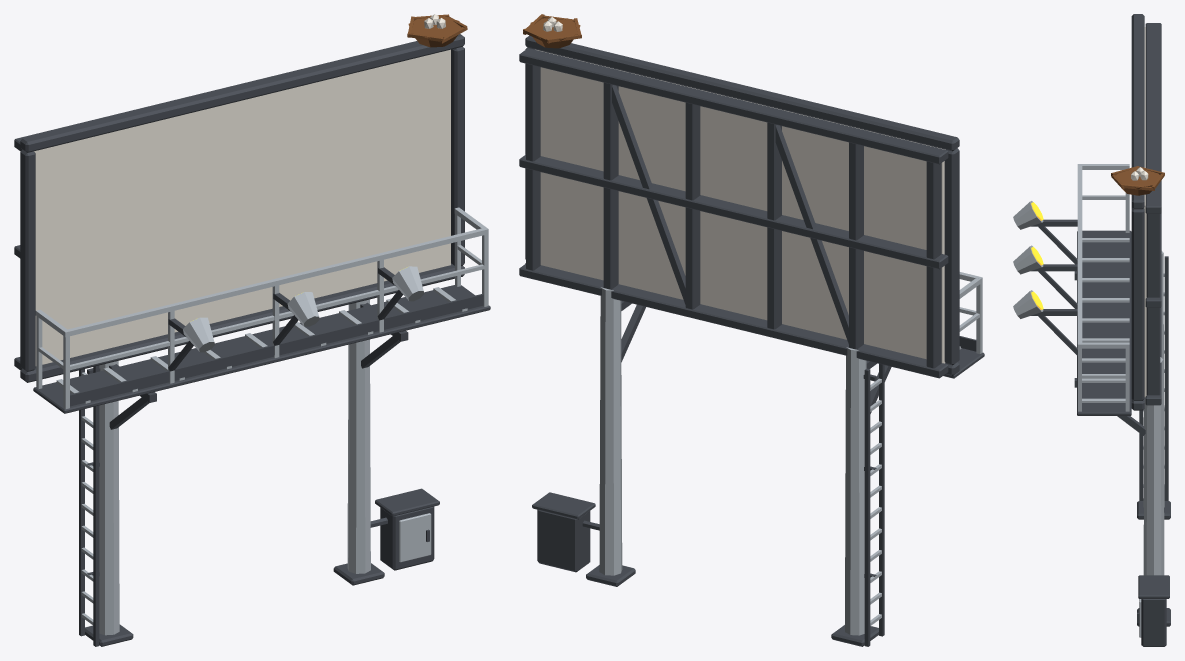
File: roadside-billboard.glb
3 renders of one model, left to right at view 1: azimuth 30°, elevation 25°; view 2: azimuth 150°, elevation 25°; view 3: azimuth 270°, elevation 25°, orthographic. The views are drawn at different scales.
Visible parts, largest first — view 1: SignFace, CatwalkDeck, Border_Top, Pole_1, ToeBoard, Pole_-1, Border_Side_-1, Border_Bottom, Rail_Top, Border_Side_1, Rail_Mid, LadderRail_-1 (+9 smaller); view 2: SignFace, Truss_H2, Border_Top, Truss_H1, Truss_H0, Pole_1, Pole_-1, Border_Side_-1, Truss_V0, Truss_V3, Truss_V4, Truss_V1 (+9 smaller); view 3: CatwalkDeck, Pole_1, Truss_H2, Border_Side_1, Truss_V5, Border_Top, MaintBox, LadderRail_1, Rail_Top, SignFace, MaintBox_Lid, BirdNest (+18 smaller).
Boxes of the visible parts, left/top/right/bottom form: SignFace: left=34, top=49, right=450, bottom=365; CatwalkDeck: left=33, top=285, right=490, bottom=413; Border_Top: left=20, top=34, right=464, bottom=152; Pole_1: left=347, top=299, right=370, bottom=573; ToeBoard: left=70, top=294, right=483, bottom=406; Pole_-1: left=99, top=361, right=119, bottom=635; Border_Side_-1: left=20, top=149, right=35, bottom=371; Border_Bottom: left=20, top=264, right=464, bottom=382; Rail_Top: left=63, top=228, right=488, bottom=336; Border_Side_1: left=451, top=46, right=464, bottom=265; Rail_Mid: left=70, top=264, right=484, bottom=370; LadderRail_-1: left=93, top=365, right=99, bottom=646; SignFace: left=535, top=49, right=945, bottom=363; Truss_H2: left=519, top=48, right=948, bottom=164; Border_Top: left=525, top=35, right=959, bottom=151; Truss_H1: left=519, top=154, right=948, bottom=269; Truss_H0: left=519, top=264, right=948, bottom=378; Pole_1: left=599, top=287, right=622, bottom=575; Pole_-1: left=845, top=347, right=866, bottom=635; Border_Side_-1: left=944, top=148, right=959, bottom=365; Truss_V0: left=926, top=161, right=941, bottom=368; Truss_V3: left=685, top=102, right=700, bottom=309; Truss_V4: left=603, top=82, right=618, bottom=289; Truss_V1: left=849, top=142, right=863, bottom=349; CatwalkDeck: left=1077, top=230, right=1131, bottom=415; Pole_1: left=1143, top=357, right=1164, bottom=575; Truss_H2: left=1145, top=23, right=1161, bottom=213; Border_Side_1: left=1131, top=208, right=1144, bottom=400; Truss_V5: left=1146, top=213, right=1160, bottom=395; Border_Top: left=1131, top=14, right=1144, bottom=209; MaintBox: left=1141, top=599, right=1166, bottom=646; LadderRail_1: left=1164, top=256, right=1168, bottom=500; Rail_Top: left=1077, top=164, right=1082, bottom=348; SignFace: left=1144, top=27, right=1146, bottom=397; MaintBox_Lid: left=1138, top=575, right=1169, bottom=598; BirdNest: left=1114, top=167, right=1162, bottom=195.
Size of the model in its own units: 21 by 25.04 by 7.47.
